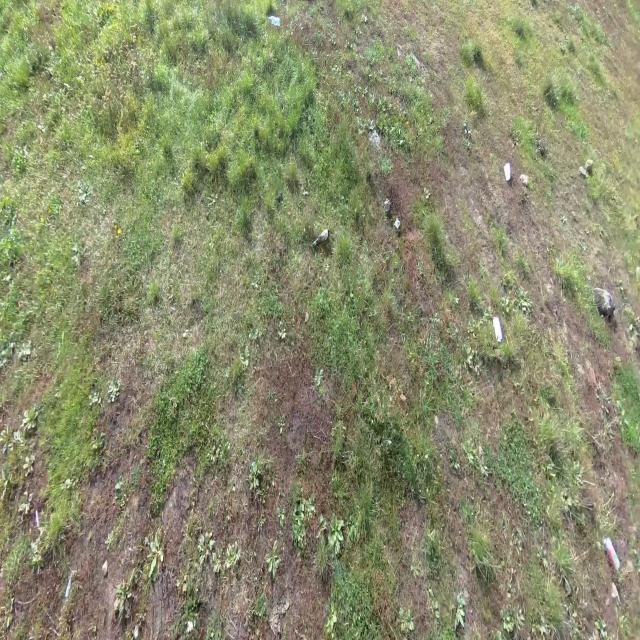rubbish: (603, 535, 620, 571), (311, 227, 330, 250), (492, 316, 503, 341), (266, 14, 280, 27), (503, 162, 511, 182), (35, 509, 39, 530)
